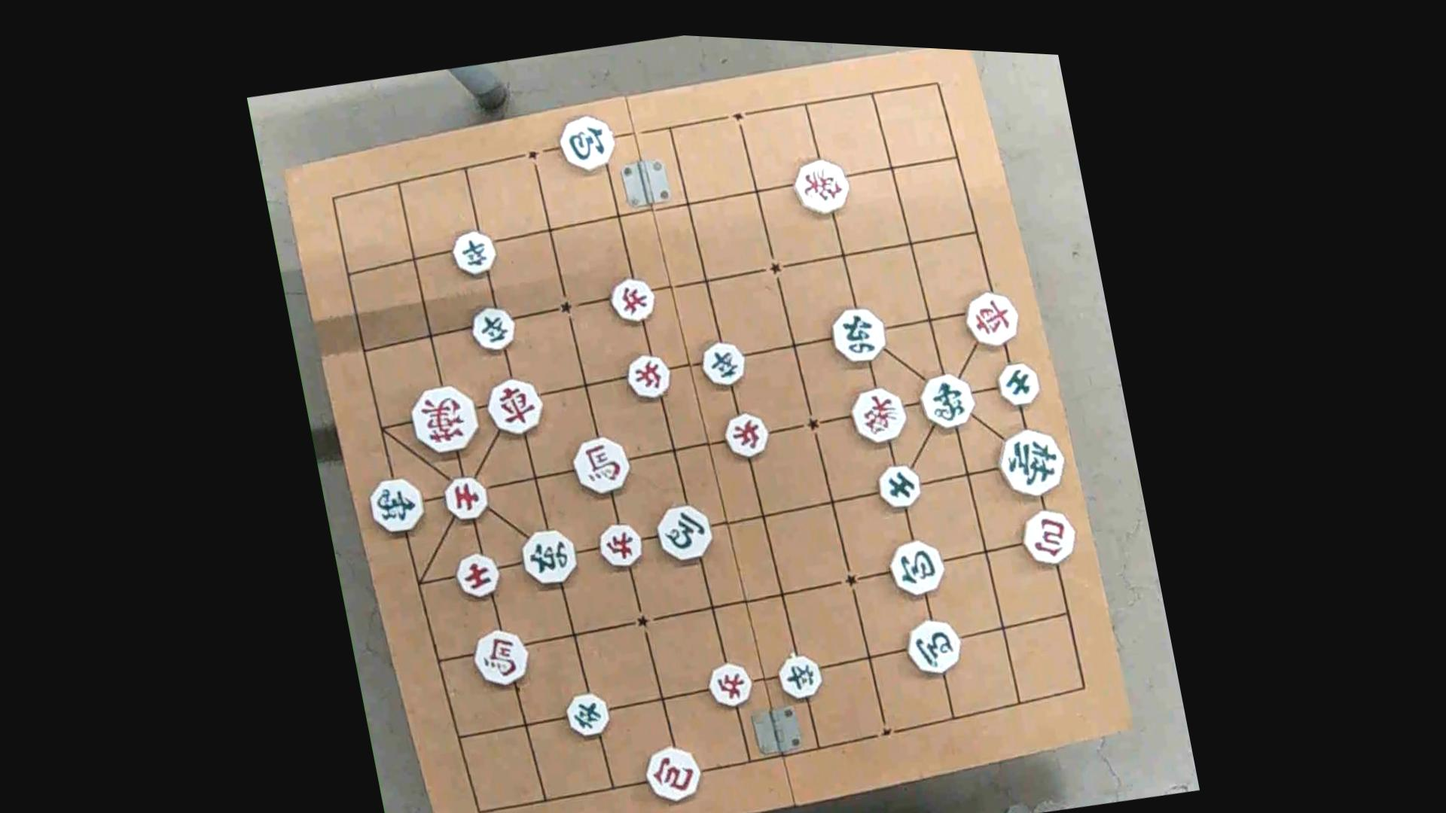cha_green: (519, 522, 581, 590), (830, 303, 889, 370)
cha_red: (960, 286, 1021, 354), (483, 373, 542, 442)
jol_green: (695, 337, 749, 394), (469, 301, 517, 359), (452, 227, 499, 283), (564, 688, 611, 742), (777, 650, 823, 705)
jol_red: (722, 404, 770, 461), (625, 348, 673, 403), (706, 658, 752, 714), (595, 520, 642, 574), (609, 273, 656, 327)
ma_green: (654, 498, 714, 568), (905, 613, 963, 681)
ma_red: (566, 432, 630, 498), (474, 626, 529, 693)
po_green: (557, 108, 615, 178), (887, 536, 946, 602)
po_red: (645, 739, 703, 808), (1018, 506, 1078, 571)
sa_green: (872, 460, 925, 516), (997, 358, 1042, 413)
sa_red: (441, 470, 489, 526), (454, 549, 501, 605)
sang_green: (914, 368, 973, 437), (365, 471, 424, 540)
sang_red: (850, 382, 909, 450), (792, 153, 850, 221)
wang_green: (996, 423, 1066, 505)
wang_red: (408, 379, 479, 461)
